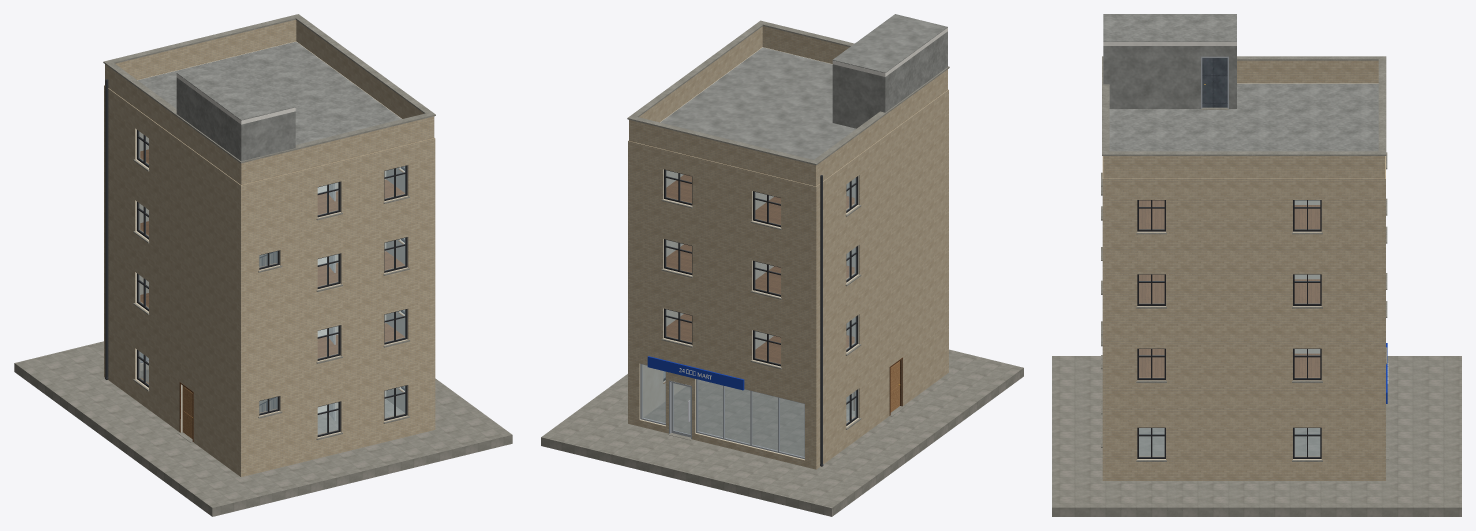
The model's file is b_kr_mart_gosiwon.gltf.
3 renders of one model, left to right at view 1: azimuth 30°, elevation 25°; view 2: azimuth 150°, elevation 25°; view 3: azimuth 270°, elevation 25°, orthographic. The views are drawn at different scales.
Visible parts, largest first — view 1: S_kr_mart_gosiwon; view 2: S_kr_mart_gosiwon, D_kr_mart_gosiwon_F1_S2_Door0; view 3: S_kr_mart_gosiwon, D_kr_mart_gosiwon_PH_W0_Door0.
Part boxes in pixels (<box>): S_kr_mart_gosiwon: <box>14,14,512,516</box>; S_kr_mart_gosiwon: <box>541,14,1023,516</box>; D_kr_mart_gosiwon_F1_S2_Door0: <box>671,382,690,437</box>; S_kr_mart_gosiwon: <box>1052,14,1461,516</box>; D_kr_mart_gosiwon_PH_W0_Door0: <box>1202,58,1227,107</box>.
Size of the model in its own units: 14 by 16.3 by 16.
Materials: 20 (11 with a texture image).
